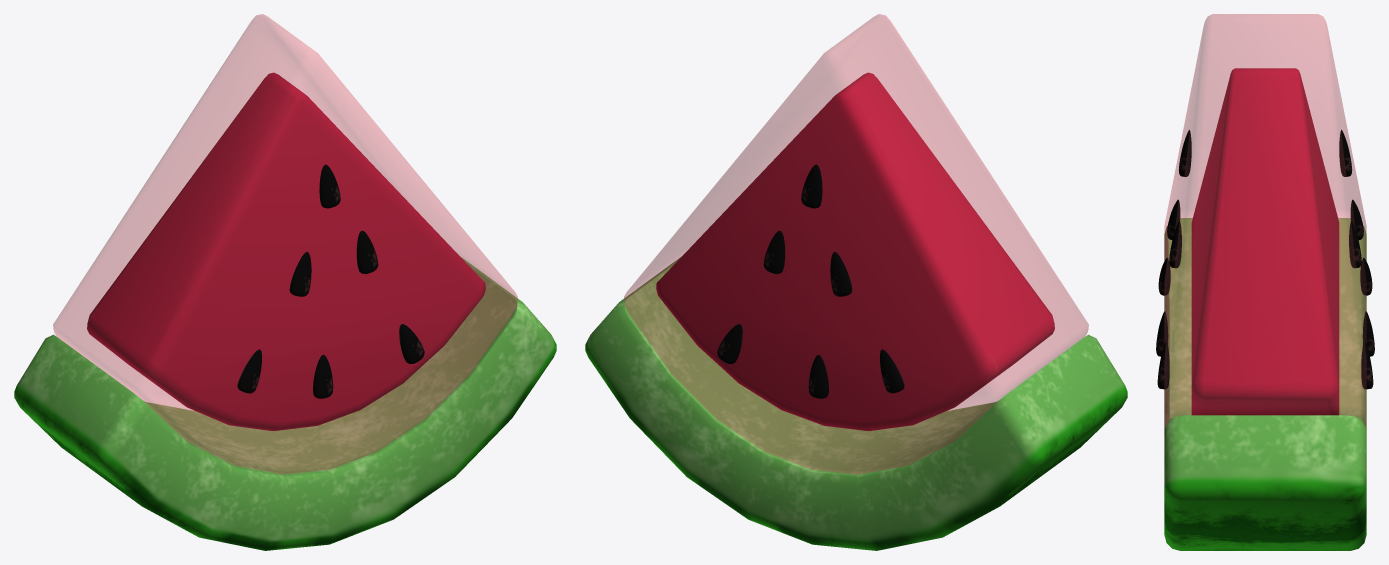
Rendered from watermelon_jelly.glb.
3 renders of one model, left to right at view 1: azimuth 30°, elevation 25°; view 2: azimuth 150°, elevation 25°; view 3: azimuth 270°, elevation 25°, orthographic. The views are drawn at different scales.
Visible parts, largest first — view 1: WM, WM_jilly; view 2: WM, WM_jilly; view 3: WM, WM_jilly.
Boxes of the visible parts, x1,y1,x2,y2 form: WM: (14,72,556,550); WM_jilly: (53,14,517,474); WM: (585,72,1127,550); WM_jilly: (624,14,1088,474); WM: (1156,68,1374,550); WM_jilly: (1164,14,1366,427).
Bounding box in the file's own units: 1.24 × 1.25 × 0.4852.
5 materials, 5 textured.
